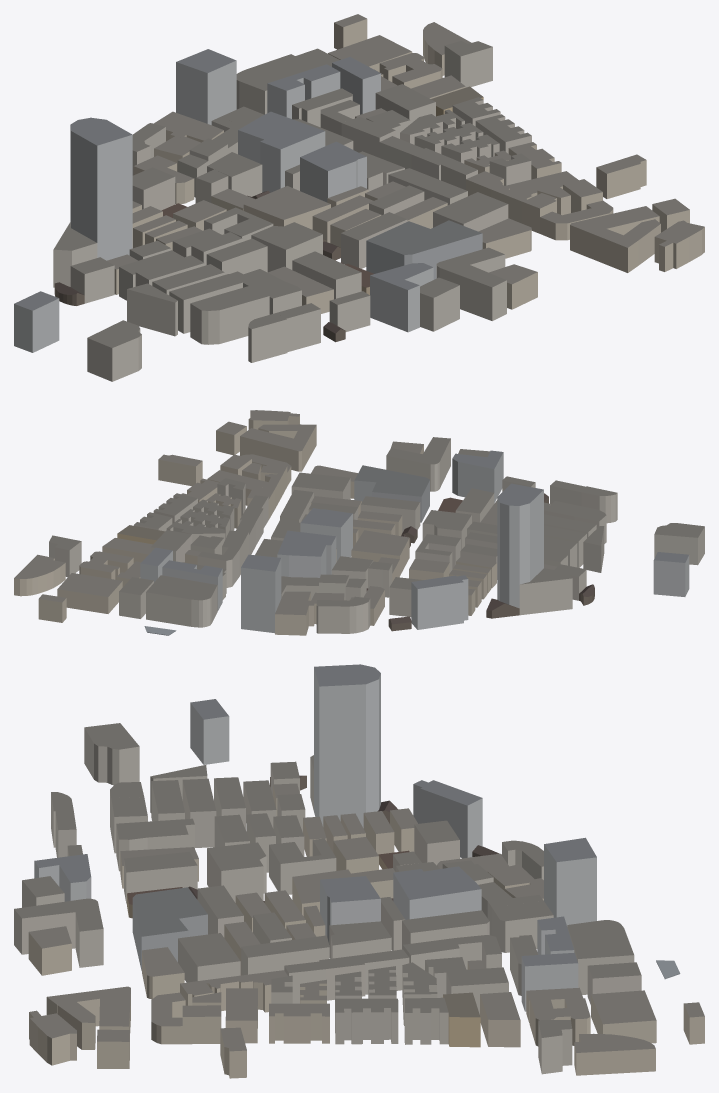
File: tile_5_11.glb
The picture shows the model from 3 angles, top to bottom: view 1: azimuth 30°, elevation 25°; view 2: azimuth 150°, elevation 25°; view 3: azimuth 270°, elevation 25°; orthographic projection. The views are drawn at different scales.
Parts seen in each view (by area): view 1: HP-w293504496, HP-w495117576, HP-w446937295, HP-w446937013, HP-w446934938, HP-w446934940, HP-w380340021, HP-w446937271, HP-w494082451, HP-w1198628316, HP-w293504485, HP-w495116056 (+77 smaller); view 2: HP-w293504496, HP-w293504499, HP-w446937013, HP-w293504498, HP-w446937295, HP-w495117576, HP-w446934940, HP-w293504492, HP-w446934938, HP-w380340021, HP-w293504491, HP-w446937020 (+71 smaller); view 3: HP-w293504496, HP-w446937013, HP-w495117576, HP-w446937295, HP-w446934938, HP-w293504498, HP-w293504471, HP-w494082451, HP-w1198023179, HP-w446936792, HP-w293504491, HP-w293504499 (+73 smaller).
Boxes of the visible parts, bbox=[...] form: HP-w293504496: bbox=[70, 117, 132, 260]; HP-w495117576: bbox=[366, 220, 482, 279]; HP-w446937295: bbox=[238, 111, 325, 192]; HP-w446937013: bbox=[176, 49, 236, 124]; HP-w446934938: bbox=[436, 247, 506, 320]; HP-w446934940: bbox=[570, 206, 659, 272]; HP-w380340021: bbox=[370, 263, 433, 332]; HP-w446937271: bbox=[300, 141, 366, 202]; HP-w494082451: bbox=[87, 320, 141, 381]; HP-w1198628316: bbox=[14, 291, 59, 352]; HP-w293504485: bbox=[267, 64, 340, 118]; HP-w495116056: bbox=[243, 186, 330, 229]; HP-w293504496: bbox=[497, 483, 543, 608]; HP-w293504499: bbox=[146, 575, 217, 627]; HP-w446937013: bbox=[241, 554, 281, 633]; HP-w293504498: bbox=[411, 575, 468, 629]; HP-w446937295: bbox=[277, 530, 336, 577]; HP-w495117576: bbox=[354, 465, 429, 522]; HP-w446934940: bbox=[240, 424, 316, 471]; HP-w293504492: bbox=[519, 568, 572, 615]; HP-w446934938: bbox=[386, 437, 450, 491]; HP-w380340021: bbox=[452, 450, 503, 502]; HP-w293504491: bbox=[57, 573, 122, 613]; HP-w446937020: bbox=[316, 596, 370, 633]; HP-w293504496: bbox=[314, 664, 380, 828]; HP-w446937013: bbox=[544, 837, 596, 926]; HP-w495117576: bbox=[132, 887, 207, 970]; HP-w446937295: bbox=[393, 866, 481, 919]; HP-w446934938: bbox=[14, 898, 103, 967]; HP-w293504498: bbox=[413, 780, 482, 858]; HP-w293504471: bbox=[574, 1033, 655, 1075]; HP-w494082451: bbox=[84, 723, 139, 785]; HP-w1198023179: bbox=[335, 998, 398, 1044]; HP-w446936792: bbox=[207, 842, 266, 902]; HP-w293504491: bbox=[591, 990, 656, 1043]; HP-w293504499: bbox=[567, 920, 634, 994].
Size of the model in its own units: 475 by 96 by 415.
